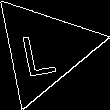L_N: (23, 21, 65, 77)
